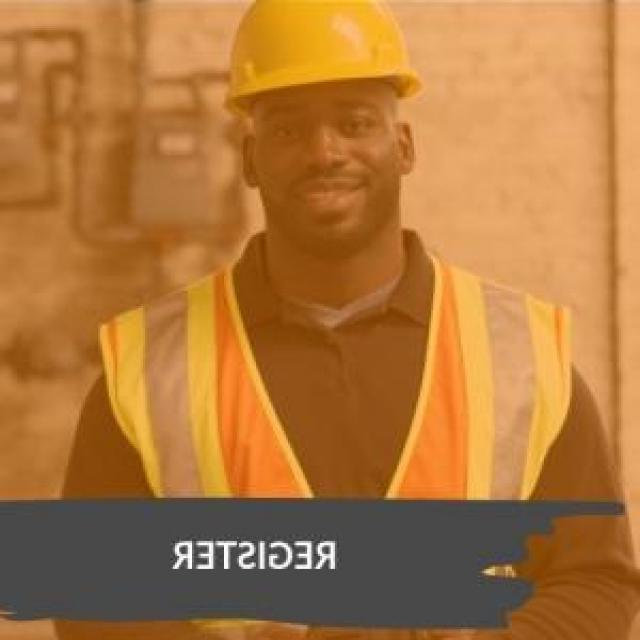reflective_jacket: (98, 247, 586, 504)
safety_helmet: (221, 0, 424, 116)
